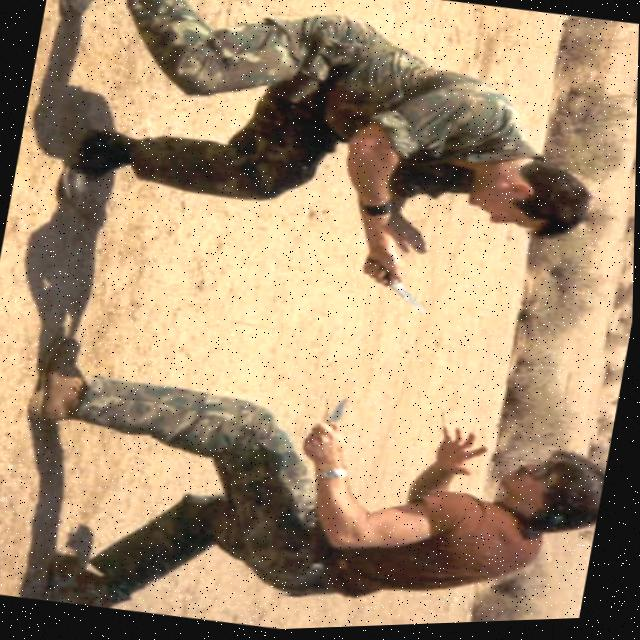knife: (383, 270, 446, 327), (328, 386, 373, 432)
